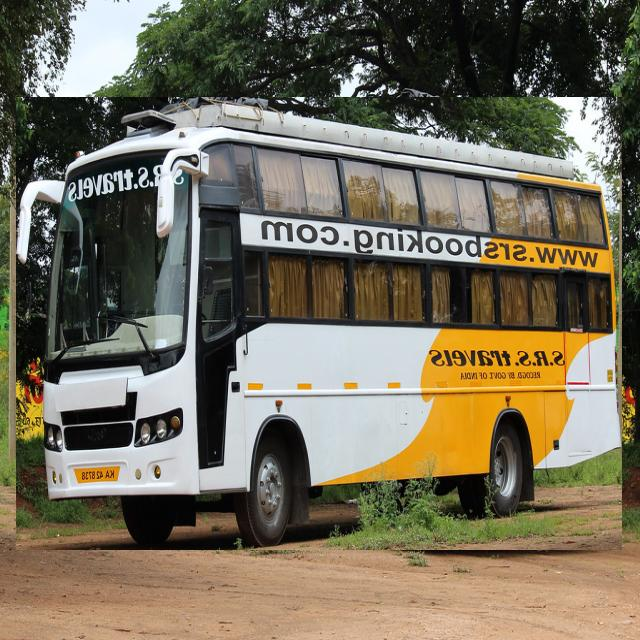bus: (16, 98, 622, 550)
